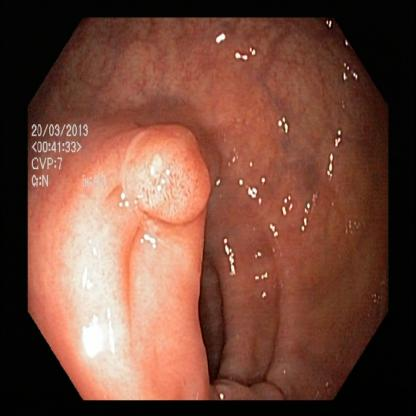Labels: (30, 121, 93, 197)
Polyps: (118, 111, 215, 216)
